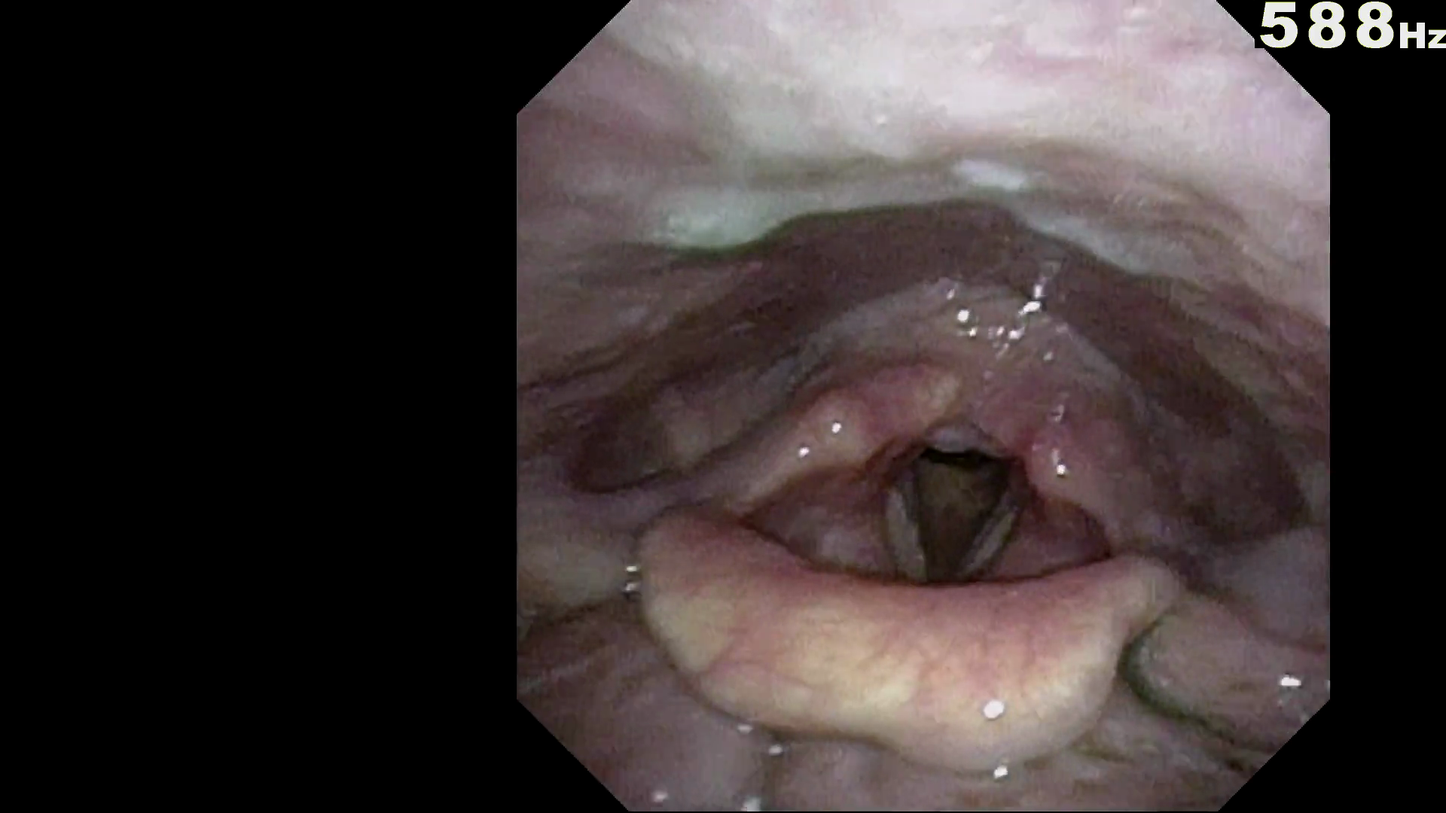epiglottis: (618, 543, 1162, 734)
trachea: (881, 445, 1005, 598)
